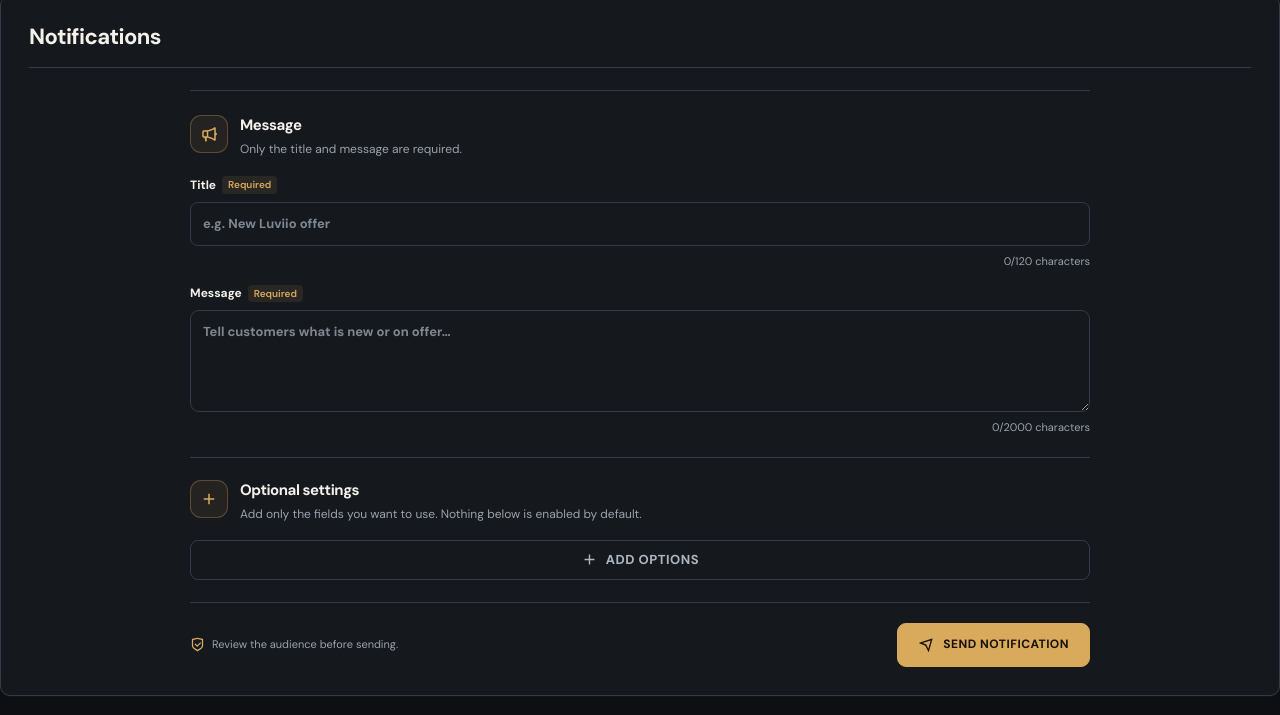
Test: Notifications panel › sends only selected optional fields and correctly parses explicit audience IDs
Type "Test campaign" into the field with placeholder "e.g. New Luviio offer" at (640, 224), box top-left (190, 202), bottom-right (1090, 246)
Type "Test body" into the text box with placeholder "Tell customers what is new or on offer…" at (640, 361), box top-left (190, 310), bottom-right (1090, 412)
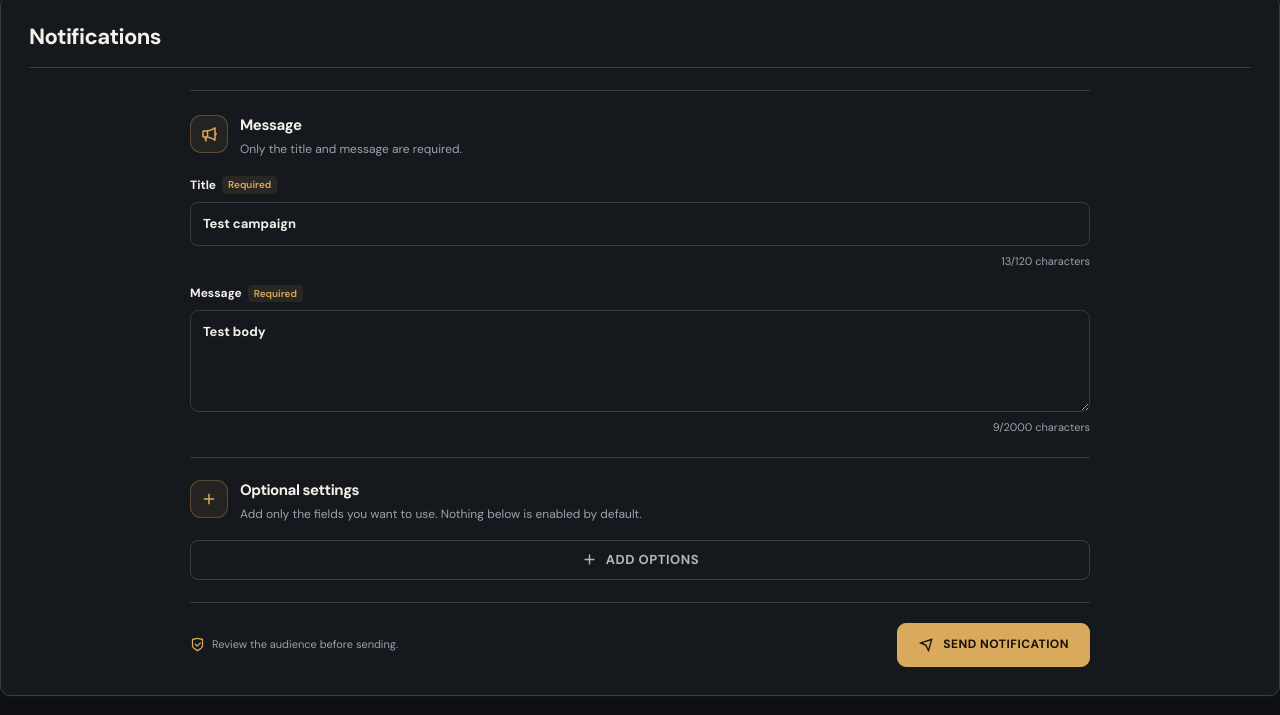
Click the button "Add options" at (640, 560), box top-left (190, 540), bottom-right (1090, 580)
(page scrolled)
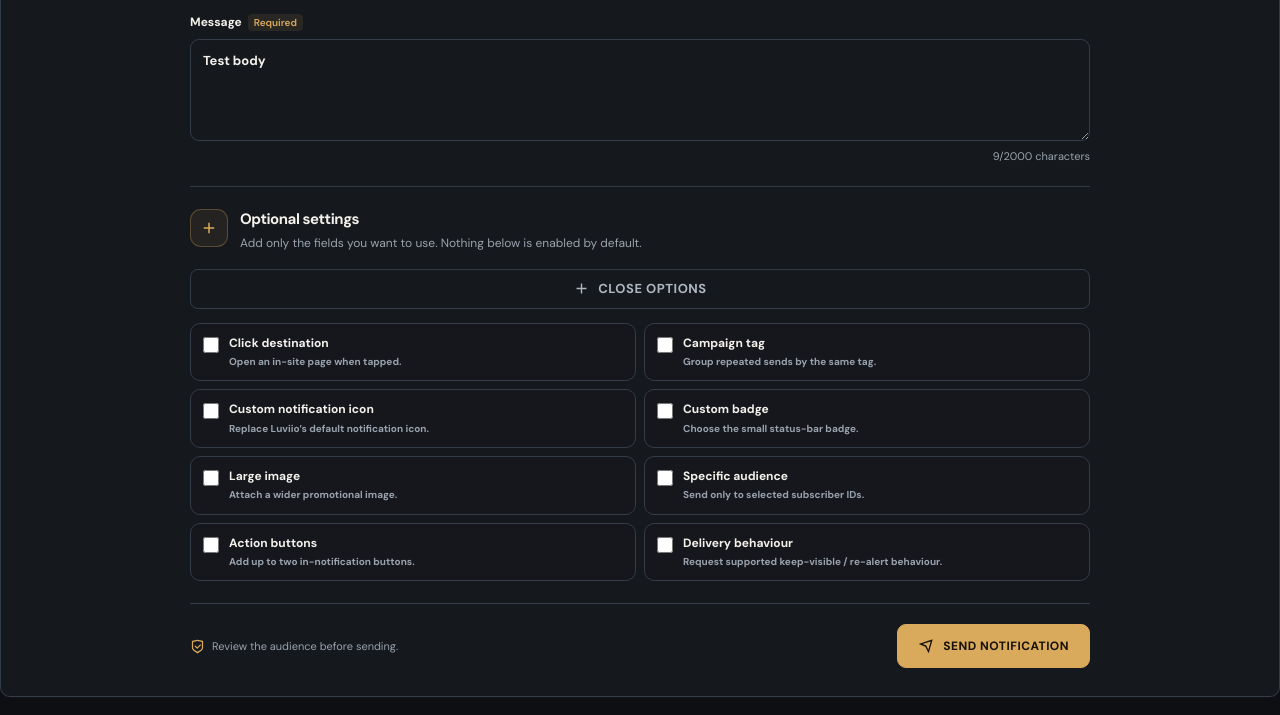
Click the checkbox labelled "Specific audience Send only to selected subscriber IDs." at (665, 478), box top-left (657, 470), bottom-right (673, 486)
(page scrolled)
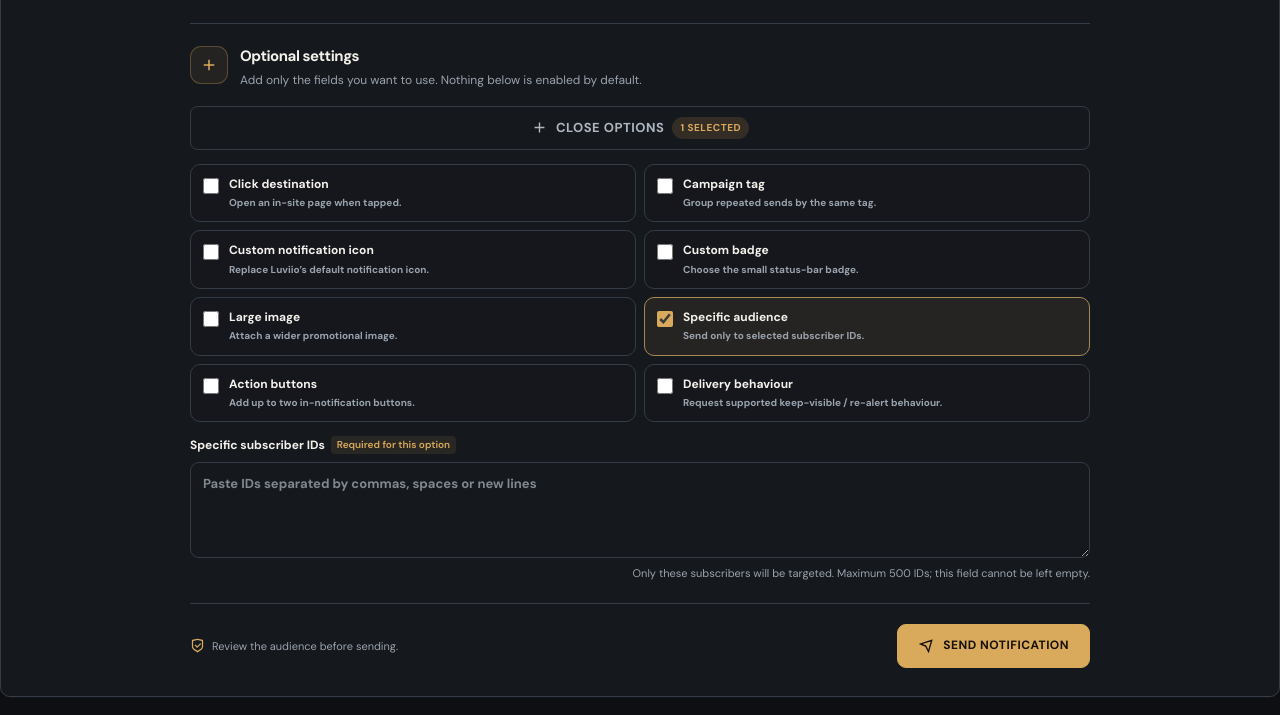
Type "user-00001, user-00002" into the text box with placeholder "Paste IDs separated by commas, spaces or new lines" at (640, 510), box top-left (190, 462), bottom-right (1090, 558)
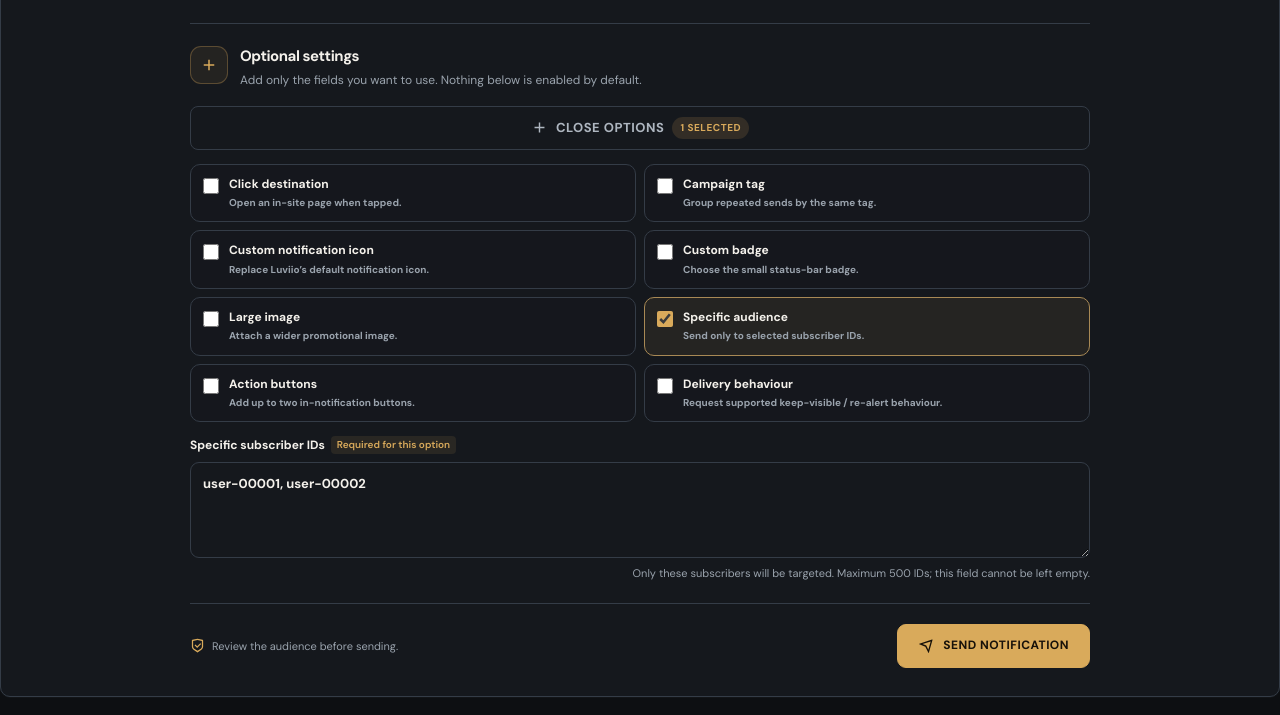
Click the button "Send notification" at (994, 646), box top-left (897, 624), bottom-right (1090, 668)
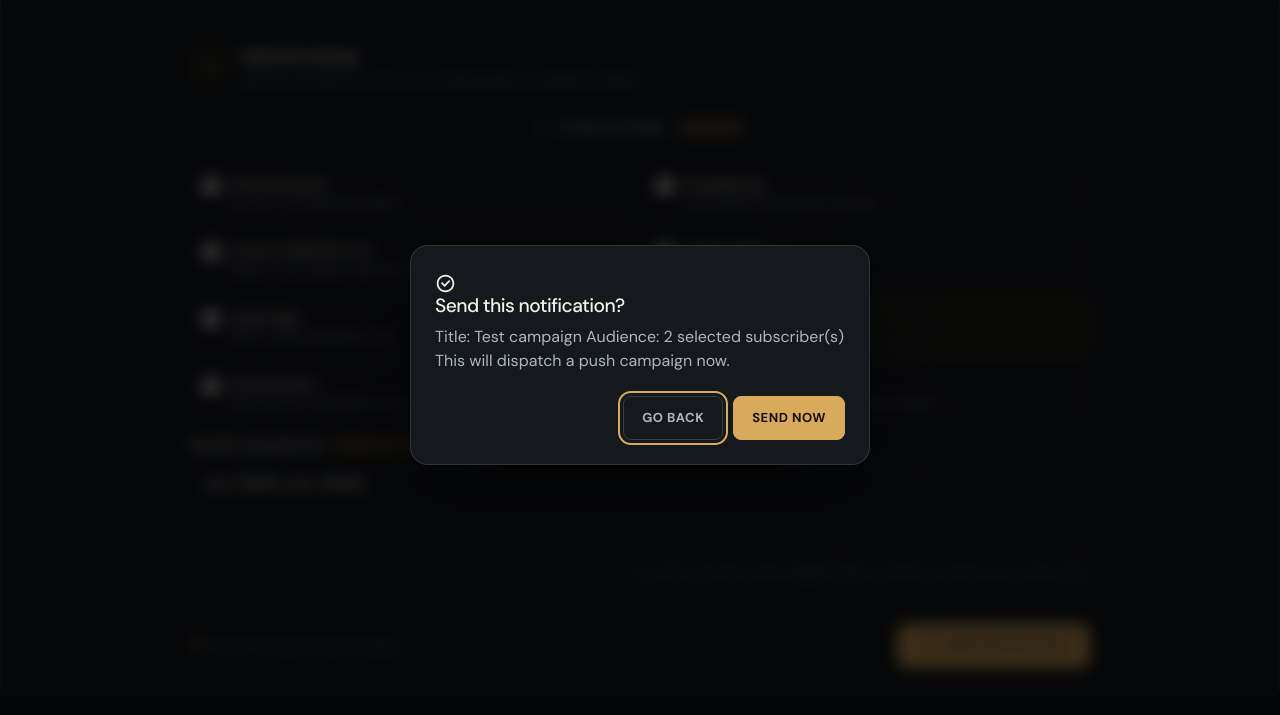
expect the dialog is shown: met, box top-left (410, 245), bottom-right (870, 465)
expect the text "2 selected subscriber" is shown: met, box top-left (435, 326), bottom-right (844, 371)
Click the button "Send now" at (789, 418), box top-left (733, 396), bottom-right (845, 440)
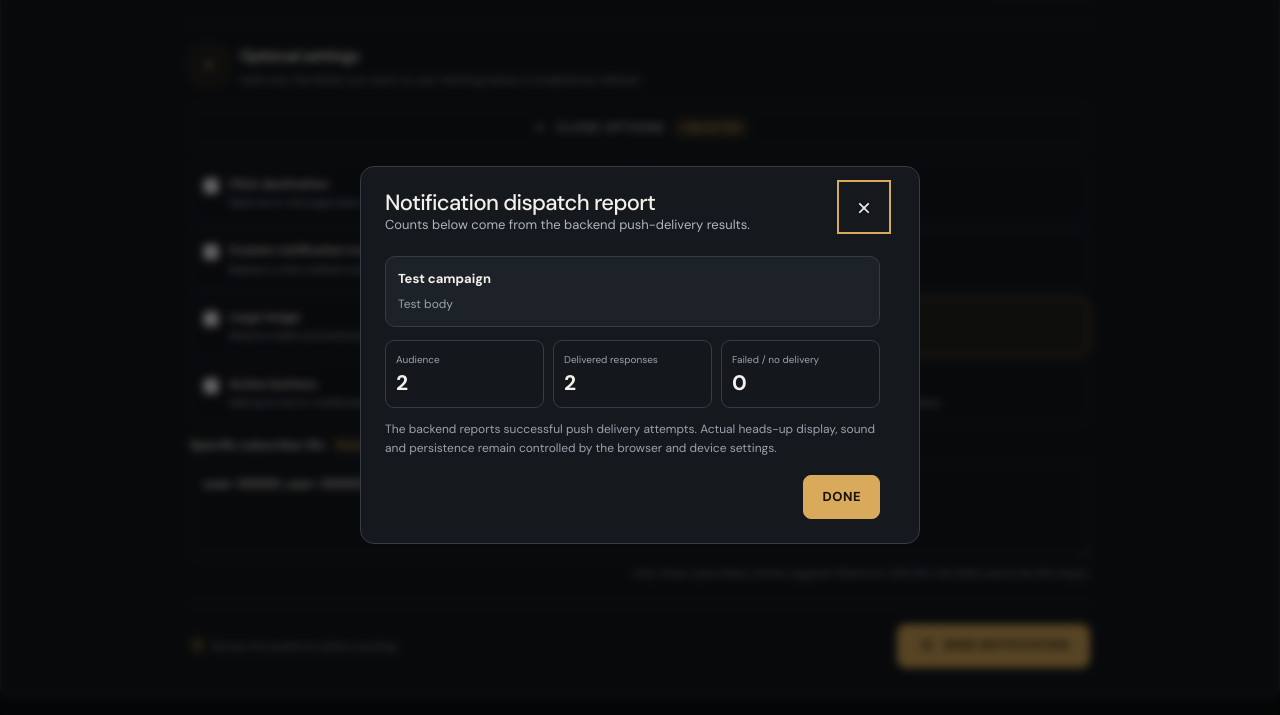
expect the text "Test campaign" is shown: met, box top-left (398, 270), bottom-right (491, 287)
expect the text "Test body" is shown: met, box top-left (398, 296), bottom-right (453, 312)
expect the heading "Notification dispatch report" is shown: met, box top-left (385, 188), bottom-right (655, 217)
